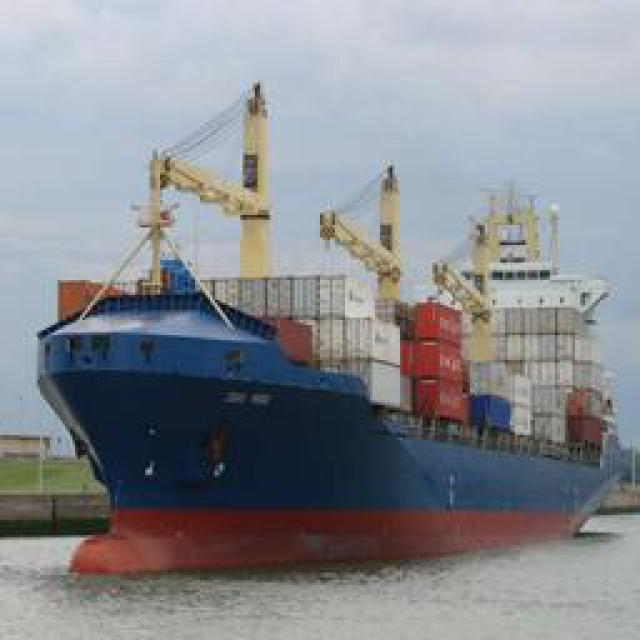Ship: (41, 82, 624, 575)
